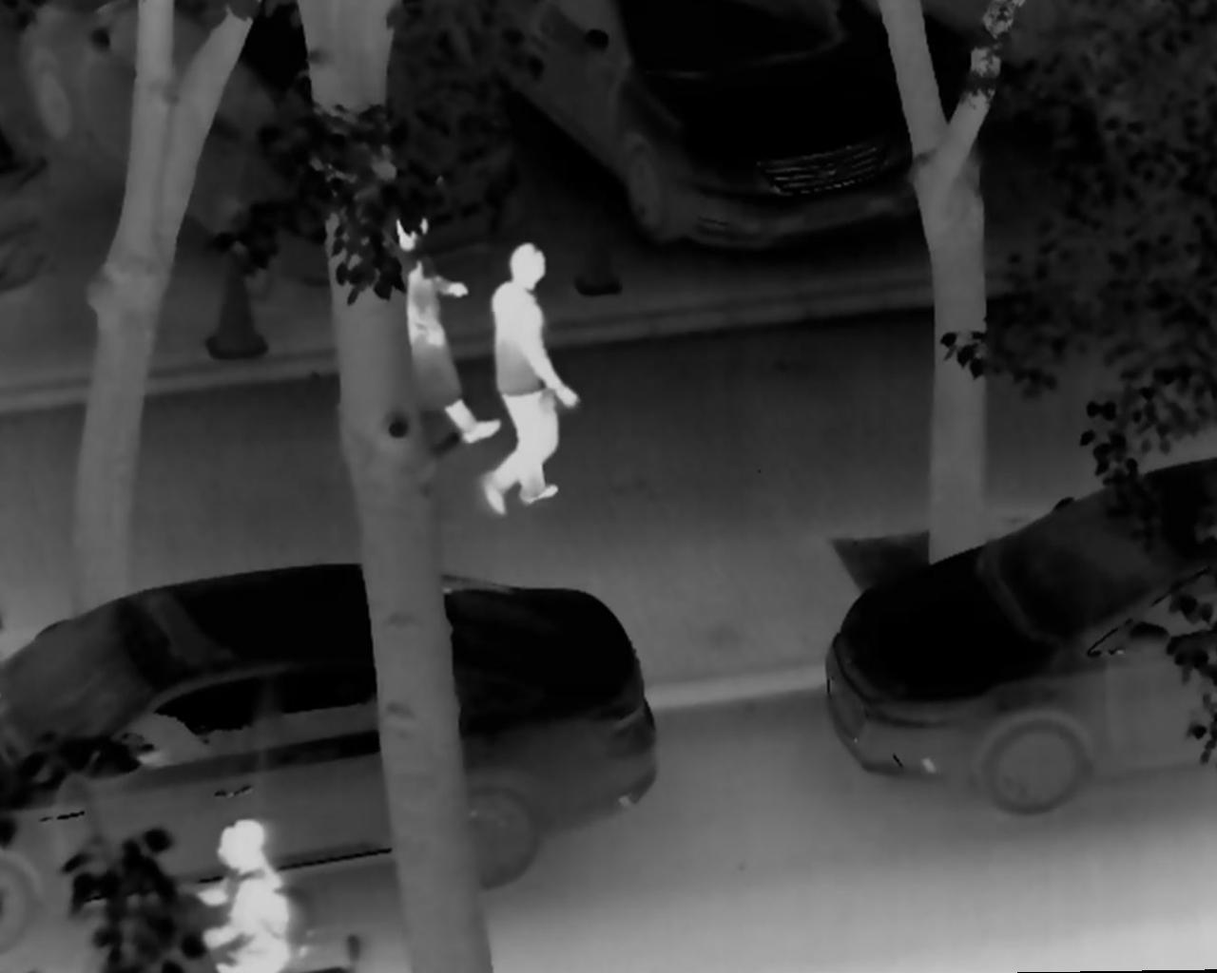person: (368, 204, 501, 449), (473, 236, 580, 519), (185, 811, 300, 973)
